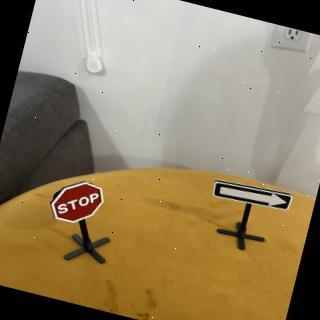sign_oneway_right: (210, 175, 295, 217)
sign_stop: (47, 174, 109, 232)
